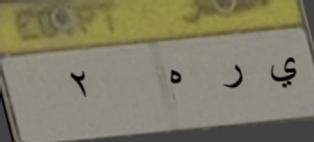2: (65, 63, 93, 99)
haa: (163, 64, 186, 89)
raa: (216, 60, 247, 92)
yaa: (266, 54, 302, 90)
